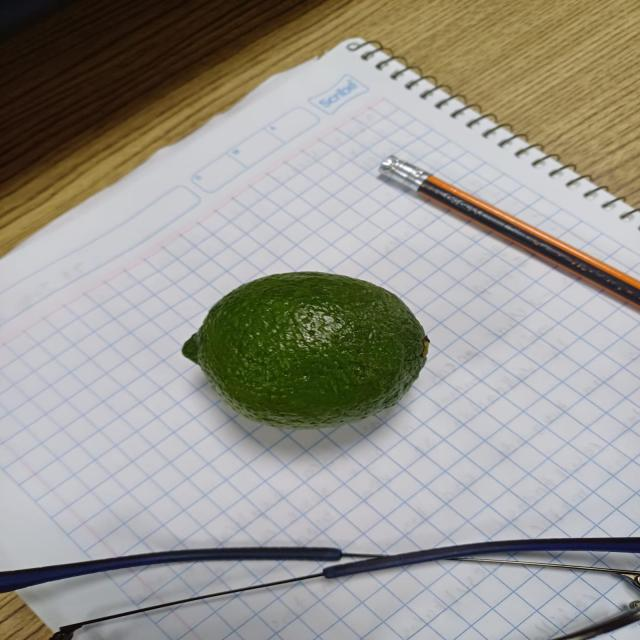Lemon: (171, 254, 439, 438)
